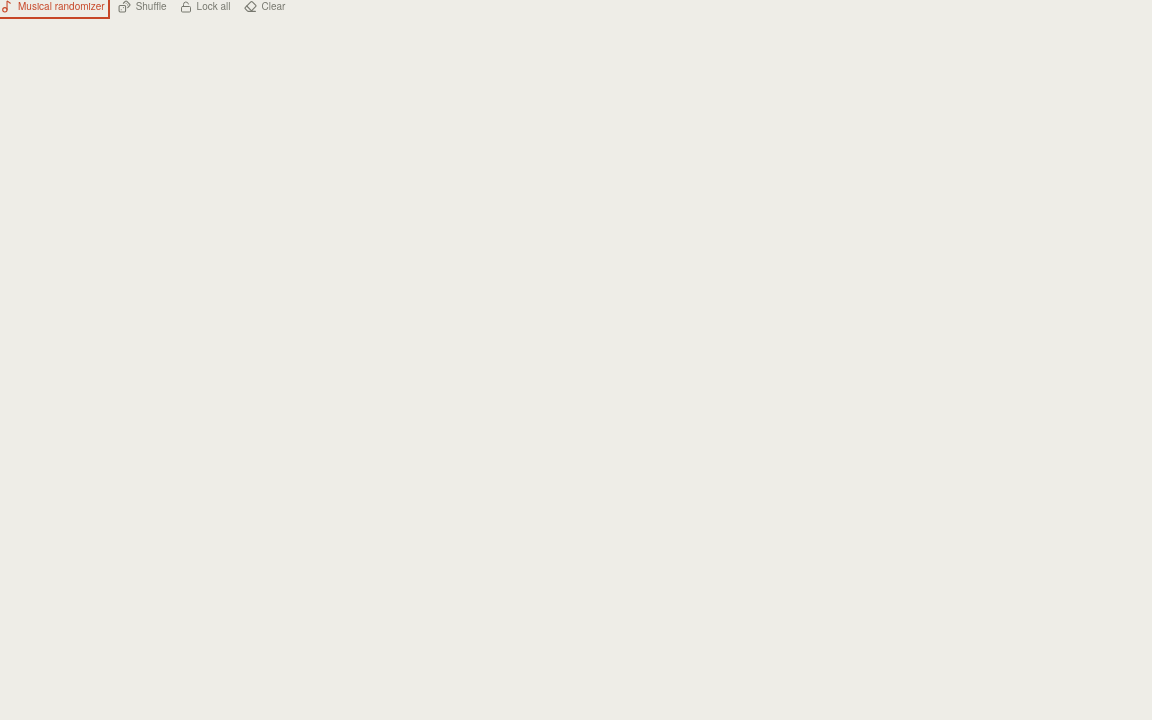
it: applies the selected candidate once with the original source and variation identity
What coordinates should you click on to do the following:
click the button "Musical randomizer"
I would click on:
 (52, 7)
Its box is 0,0 -> 105,14.
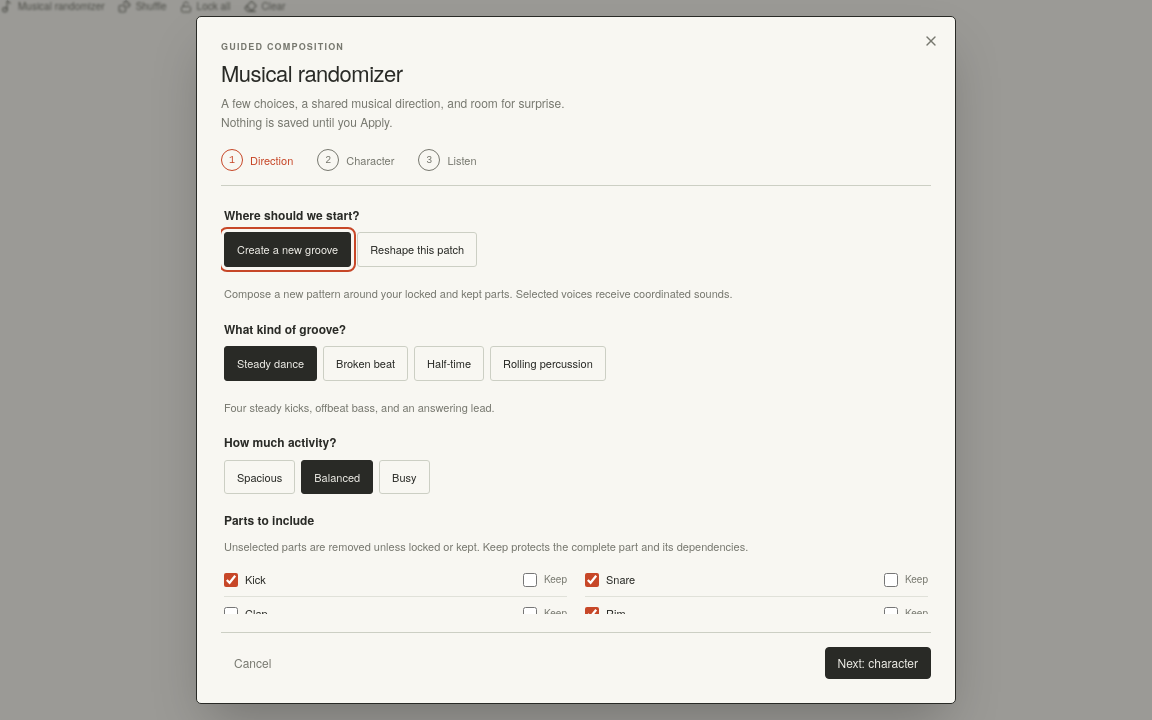
What coordinates should you click on to do the following:
click the button "Next: character"
I would click on:
 (878, 663)
Its box is 824,647 -> 931,679.
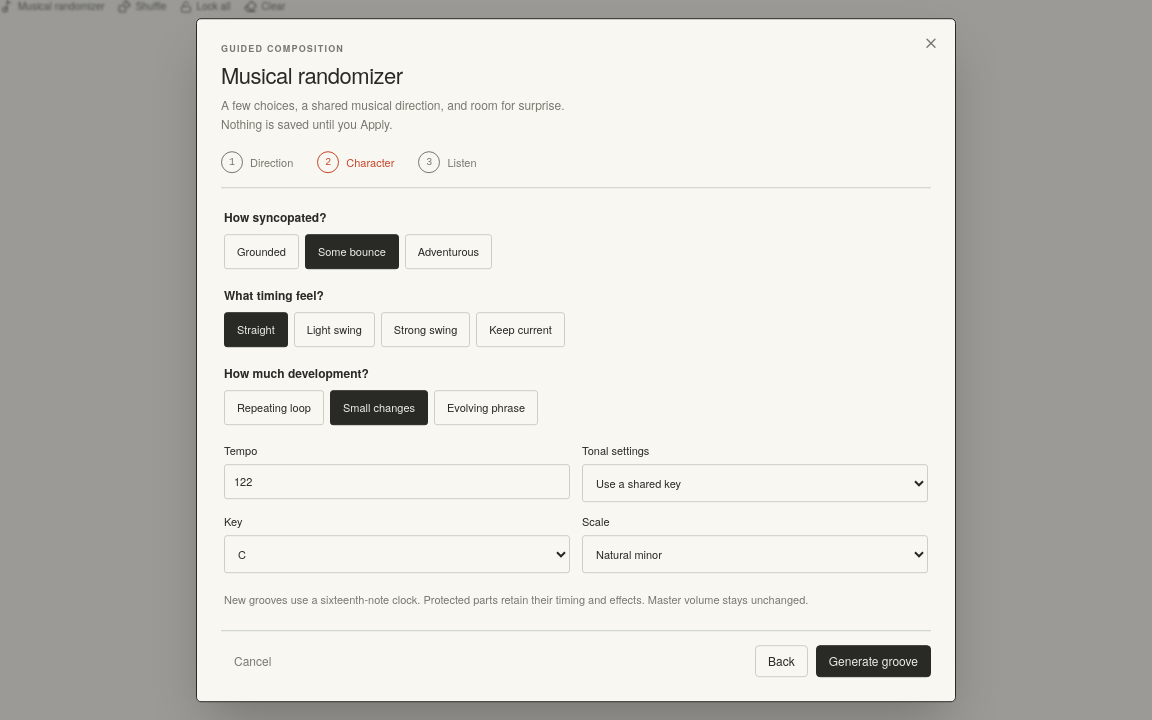
What coordinates should you click on to do the following:
click the button "Generate groove"
I would click on:
 (873, 661)
Its box is 816,645 -> 931,677.
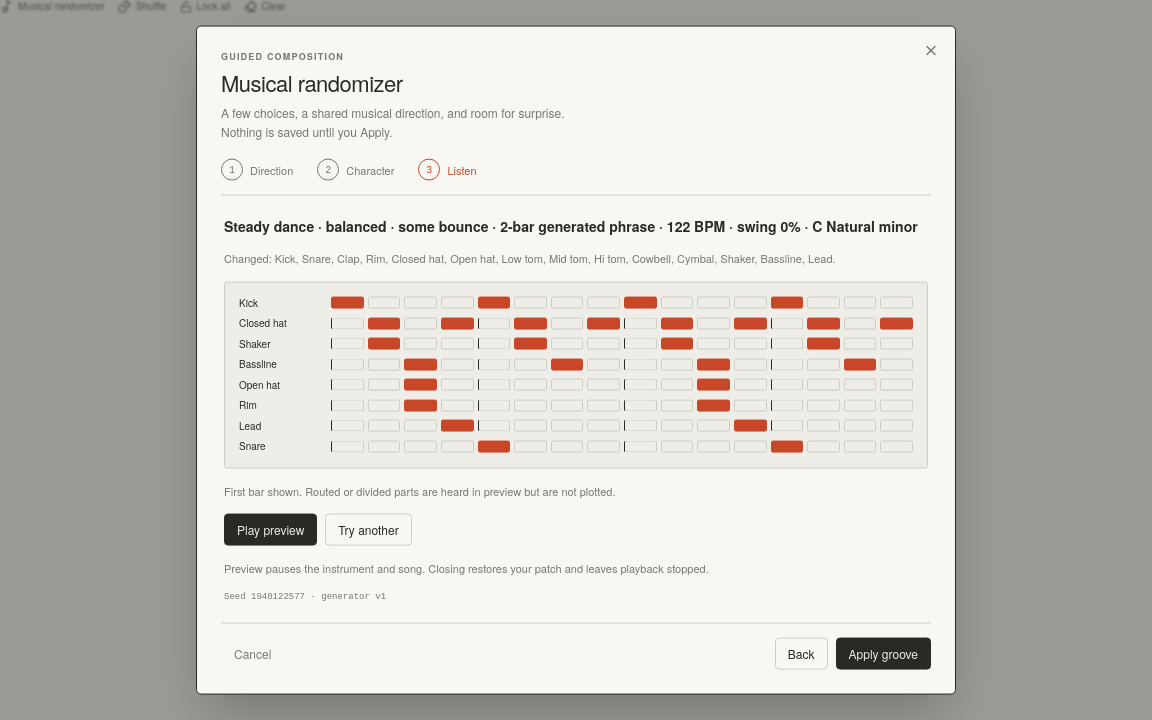
What coordinates should you click on to do the following:
click the button "Apply groove"
I would click on:
 (883, 653)
Its box is 836,637 -> 931,669.
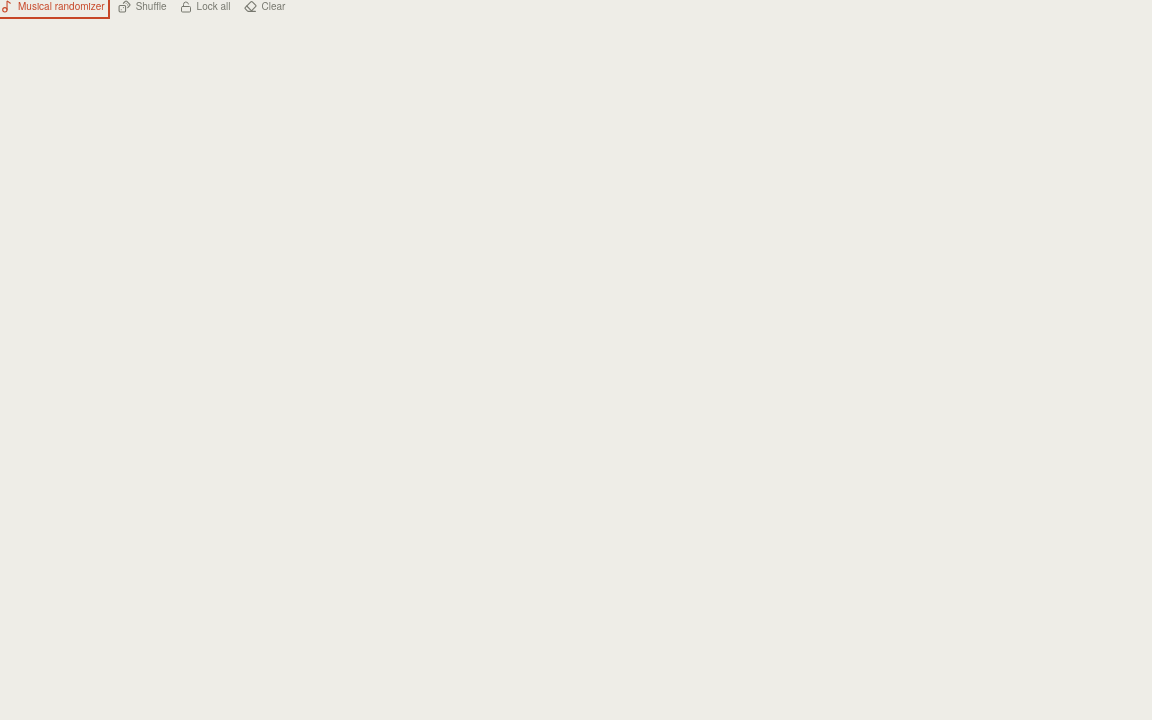
Check: the dialog is gone
